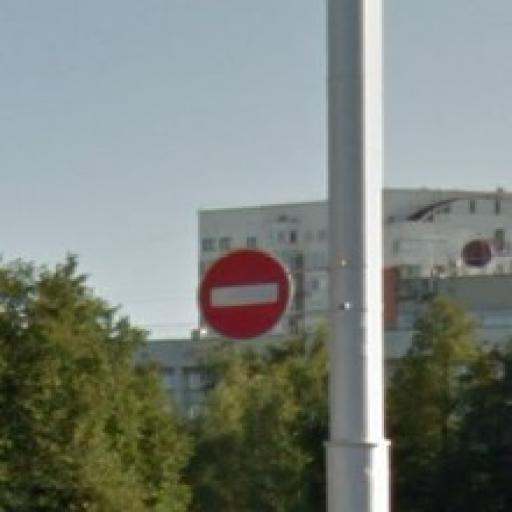traffic_sign: (197, 247, 294, 345)
